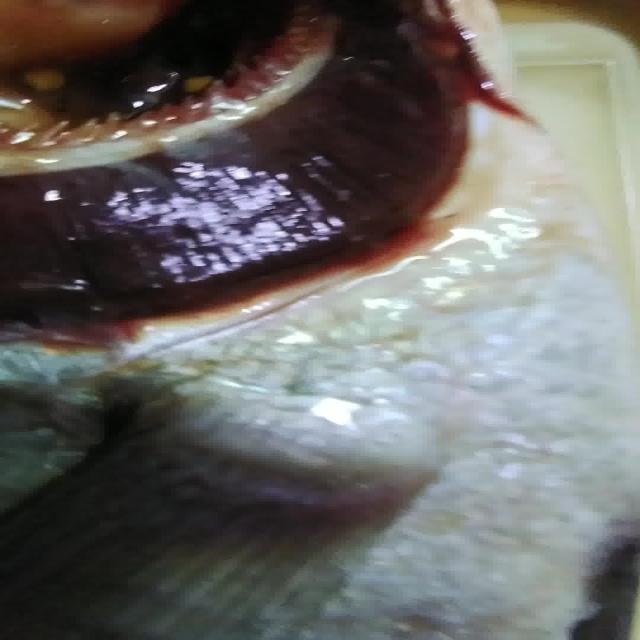Non-Fresh: (4, 0, 458, 346)
